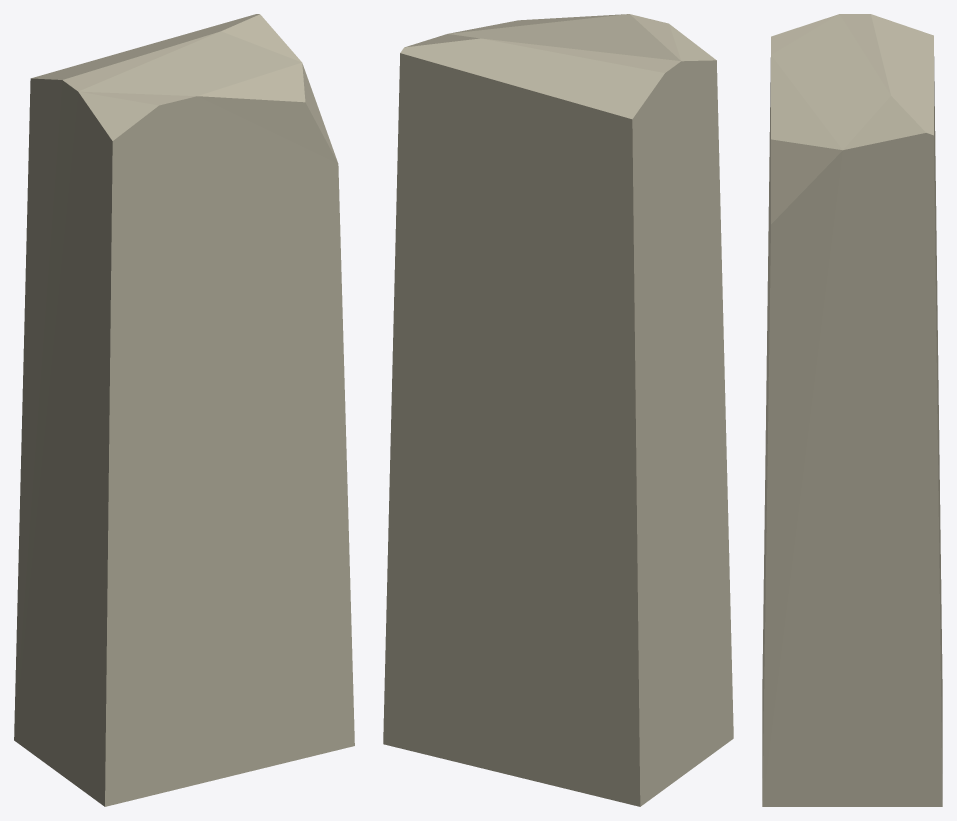
File: Stonehenge_06.fbx
3 renders of one model, left to right at view 1: azimuth 30°, elevation 25°; view 2: azimuth 150°, elevation 25°; view 3: azimuth 270°, elevation 25°, orthographic. The views are drawn at different scales.
Parts seen in each view (by area): view 1: Stonehenge_06; view 2: Stonehenge_06; view 3: Stonehenge_06.
Boxes of the visible parts, x1=… form: Stonehenge_06: x1=14, y1=14, x2=354, y2=806; Stonehenge_06: x1=383, y1=14, x2=733, y2=806; Stonehenge_06: x1=762, y1=14, x2=942, y2=806.
Size of the model in its own units: 210 by 550 by 132.
